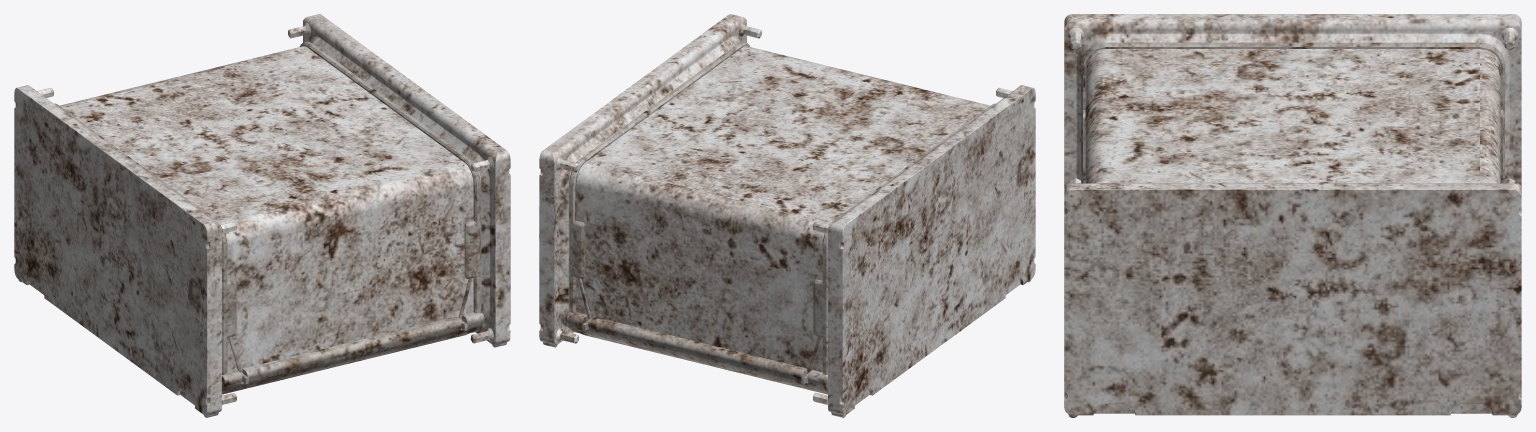
Rendered from metro_hvac_duct.glb.
3 views of the same model, side by side, from view 1: azimuth 30°, elevation 25°; view 2: azimuth 150°, elevation 25°; view 3: azimuth 270°, elevation 25° (orthographic). The views are drawn at different scales.
Visible parts, largest first — view 1: metro_hvac_duct; view 2: metro_hvac_duct; view 3: metro_hvac_duct.
Boxes of the visible parts, bbox=[...] form: metro_hvac_duct: bbox=[14, 14, 510, 417]; metro_hvac_duct: bbox=[539, 14, 1035, 417]; metro_hvac_duct: bbox=[1064, 14, 1521, 417].
Bounding box in the file's own units: 1 × 0.61 × 1.1.
Materials: 2 (2 with a texture image).
